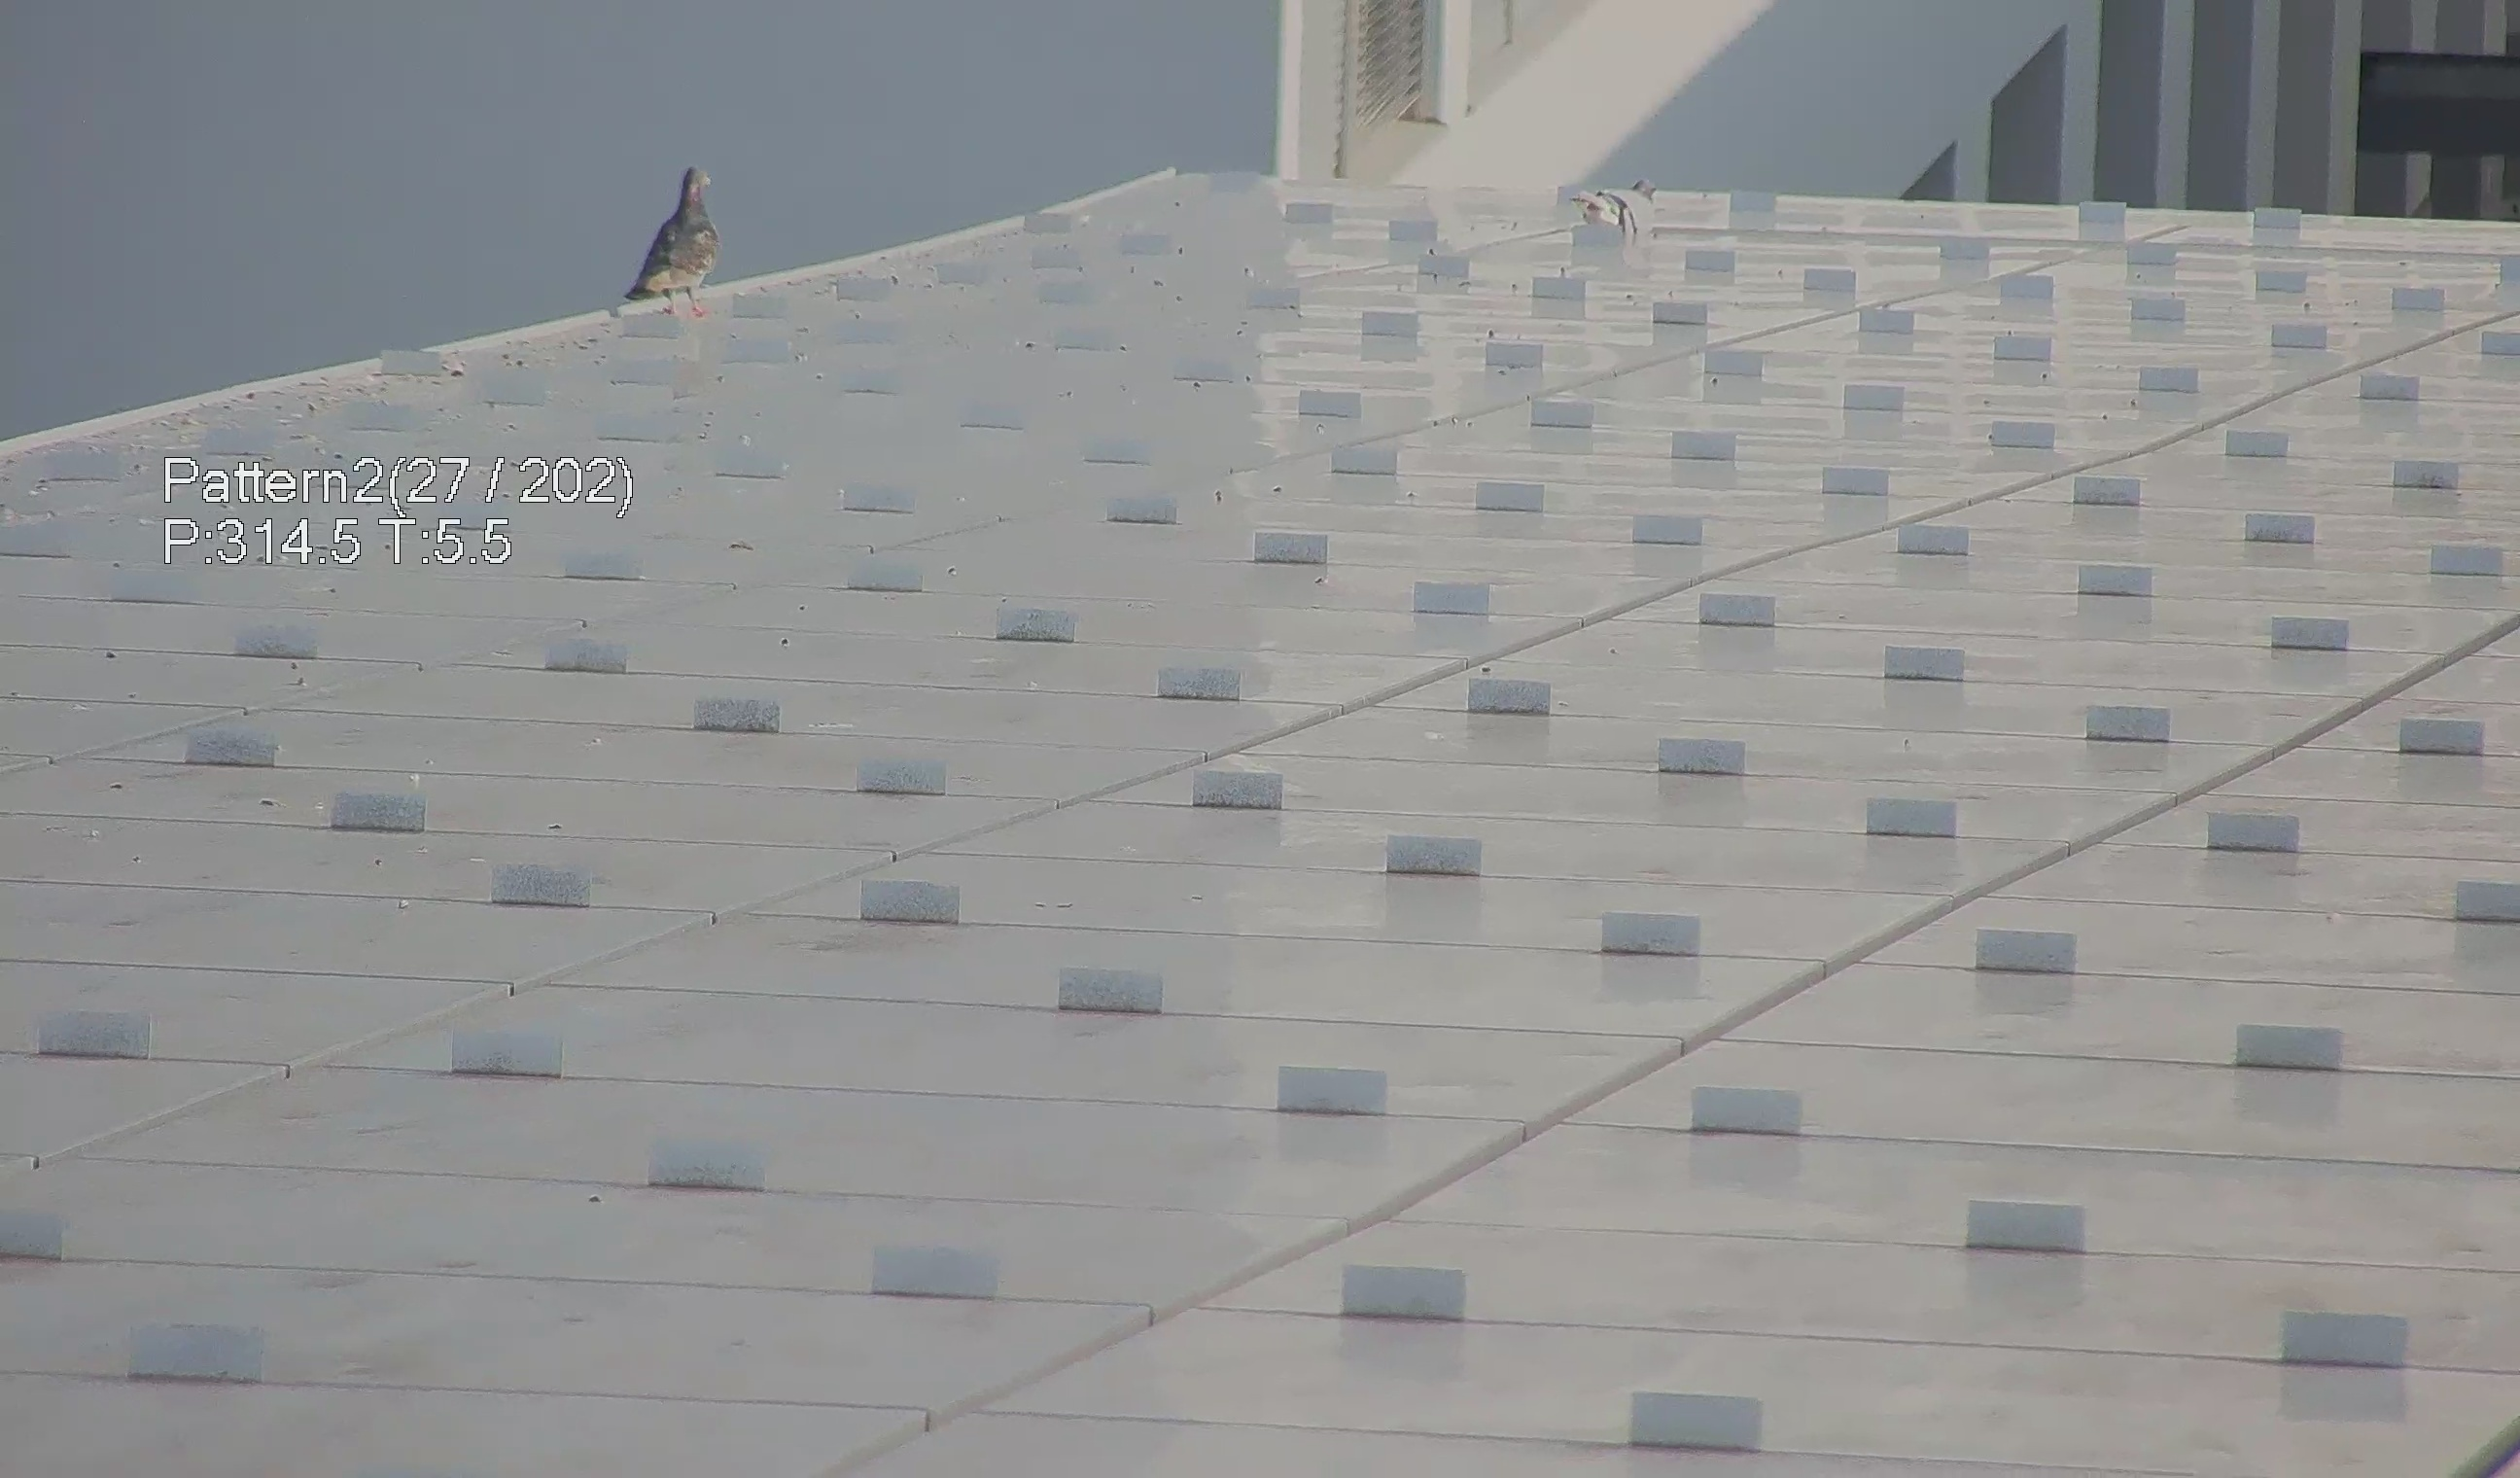Pigeon: (598, 153, 712, 315), (1544, 178, 1678, 250)
